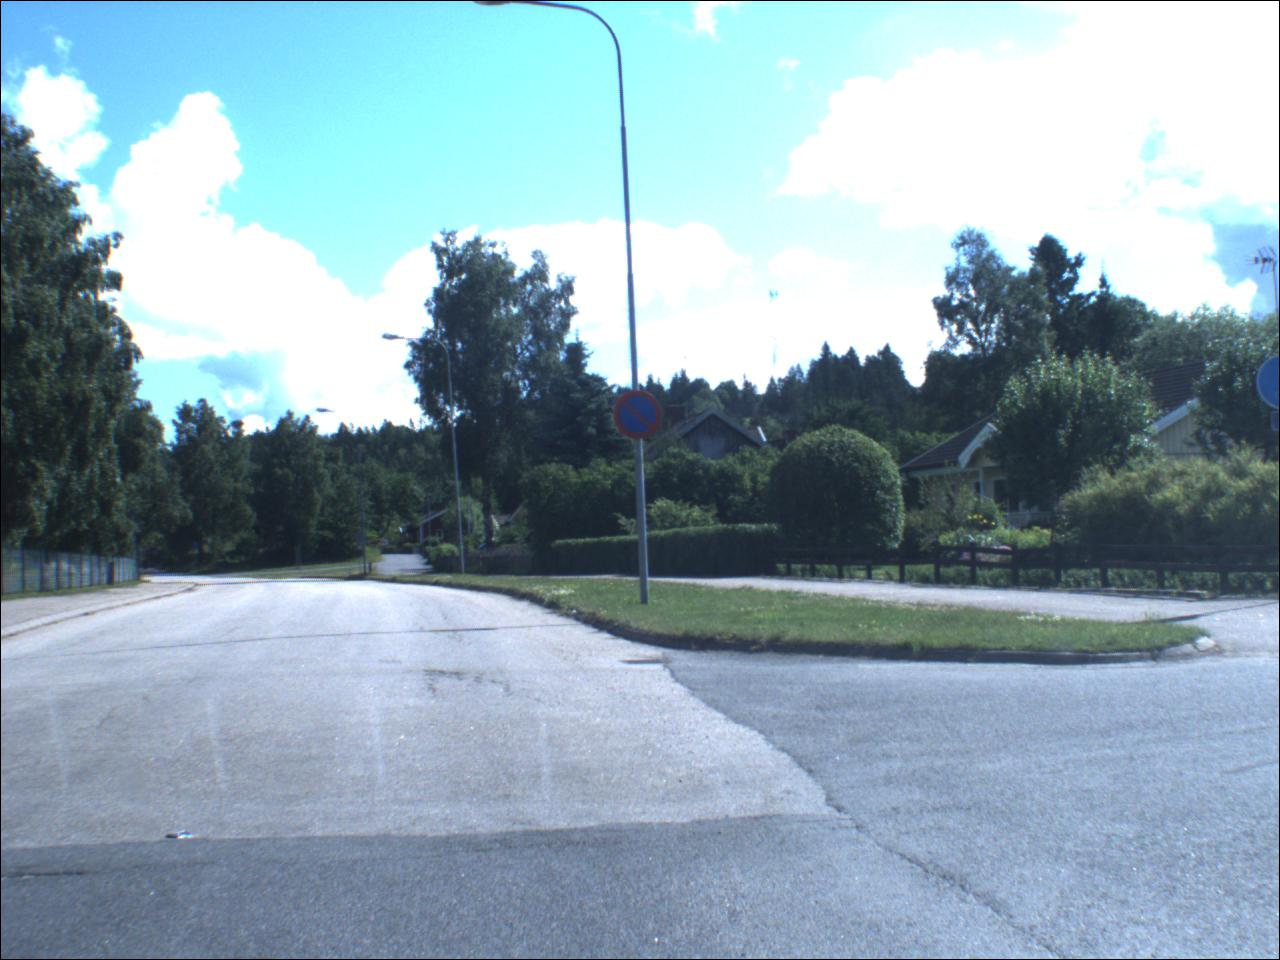NO_PARKING: (615, 392, 666, 442)
